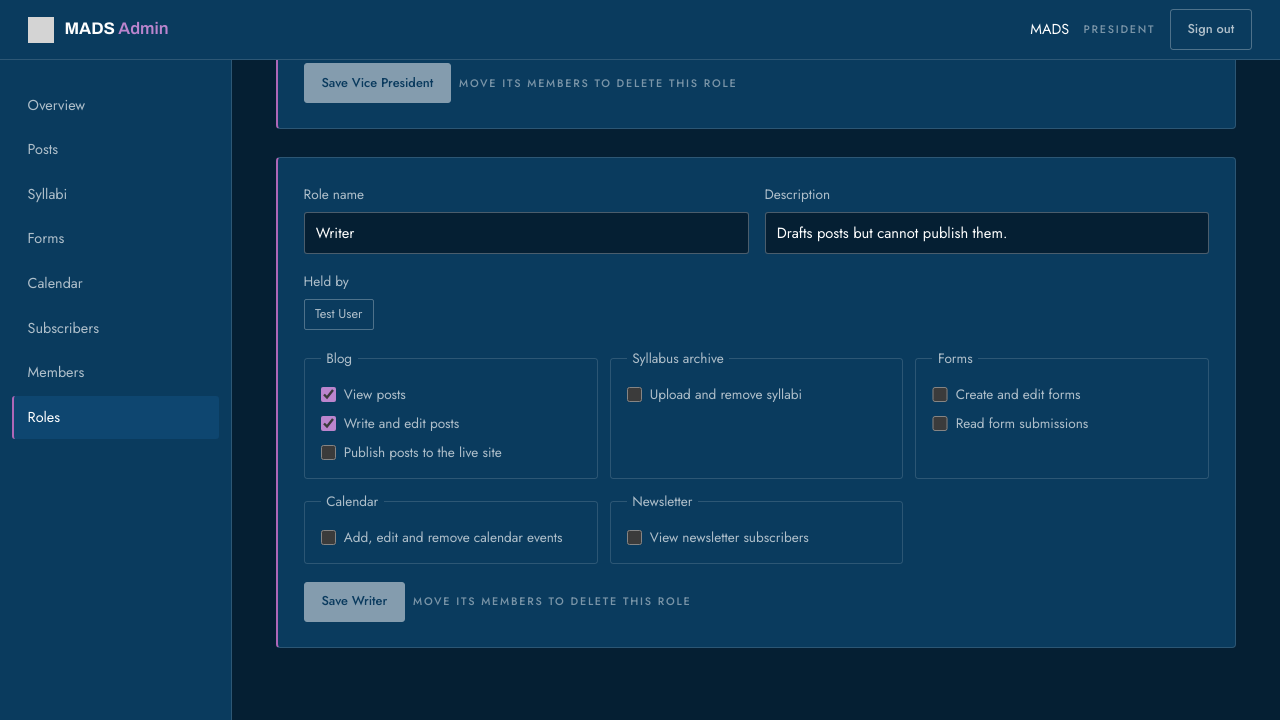
Test: Roles › lets the President decide which roles can create forms
(page scrolled)
Click the checkbox labelled "Create and edit forms": [940, 394] box [932, 387, 948, 402]
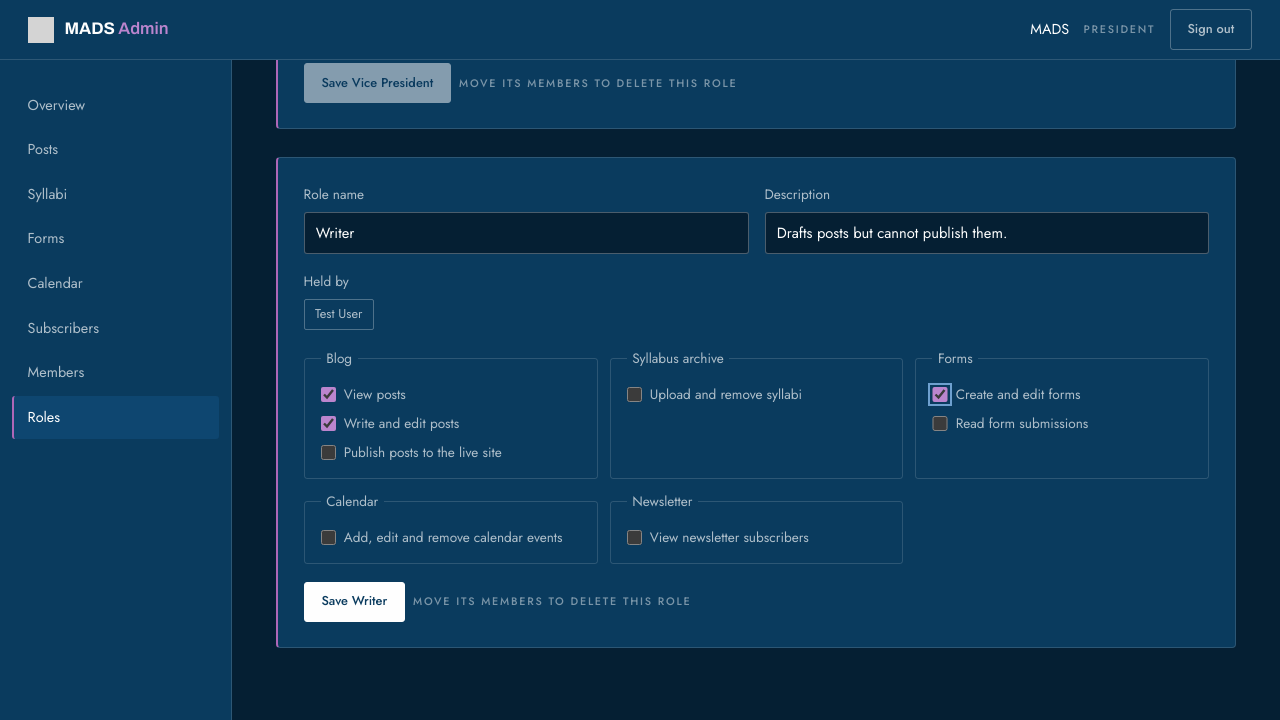
Click the button "Save Writer": [354, 602] box [304, 582, 405, 622]
(page scrolled)
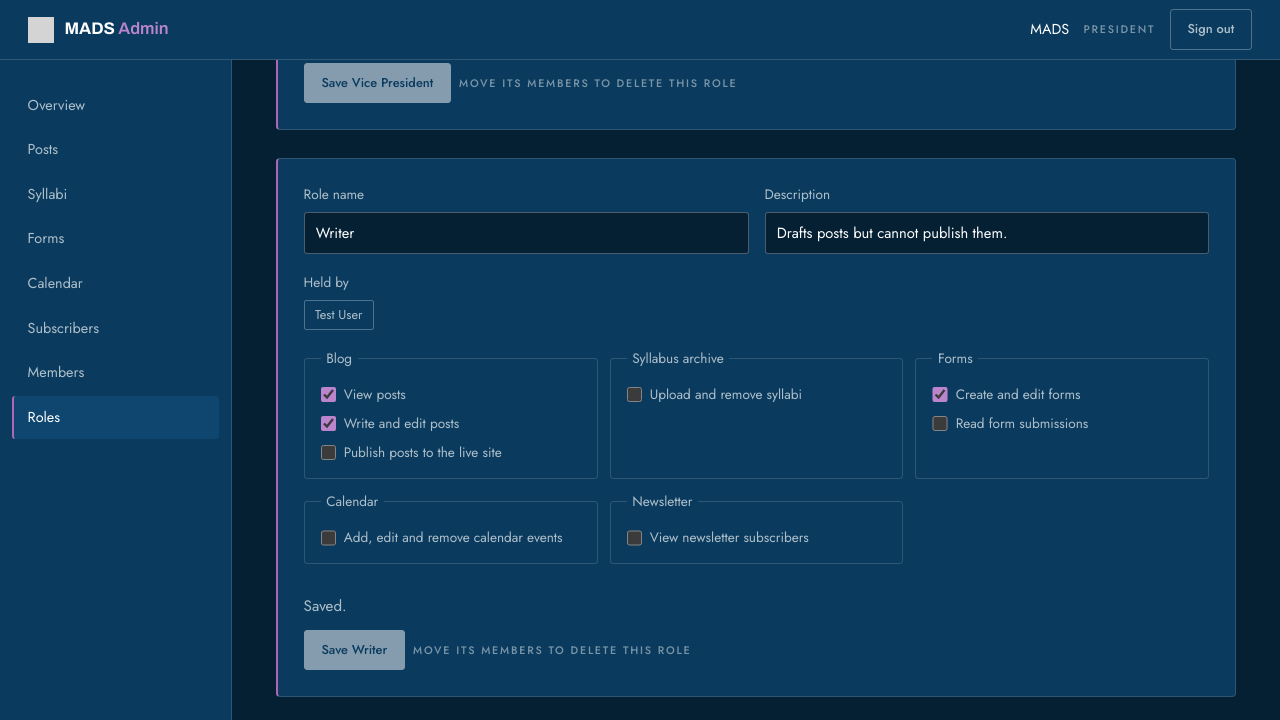
Now the message shows "Saved", box [304, 595, 347, 617]
